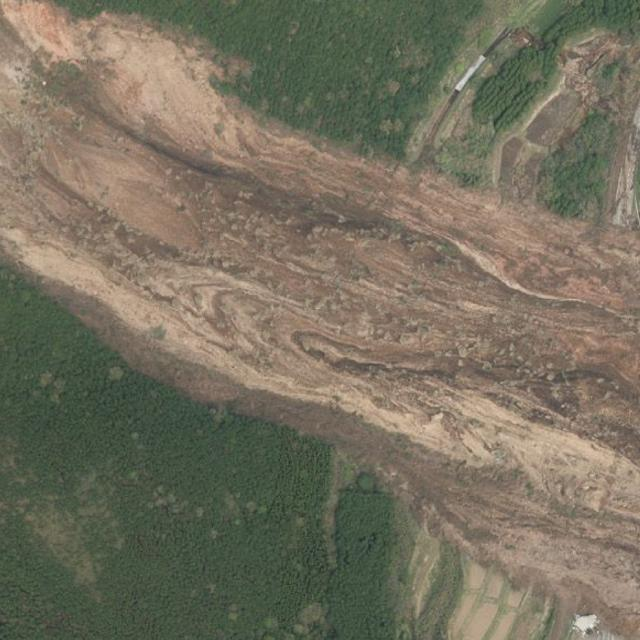landslide: (0, 0, 640, 639), (493, 30, 640, 199)
